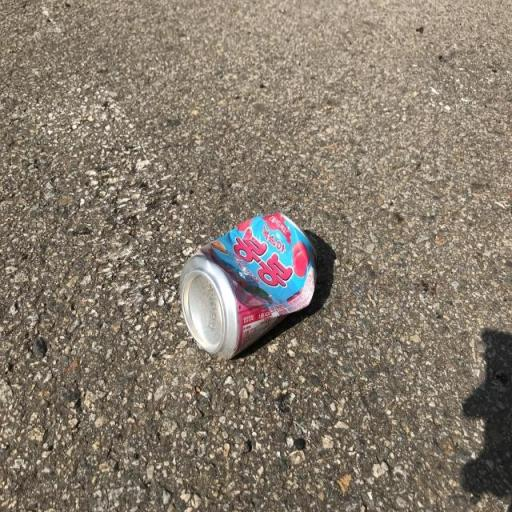metal: (164, 196, 351, 406)
